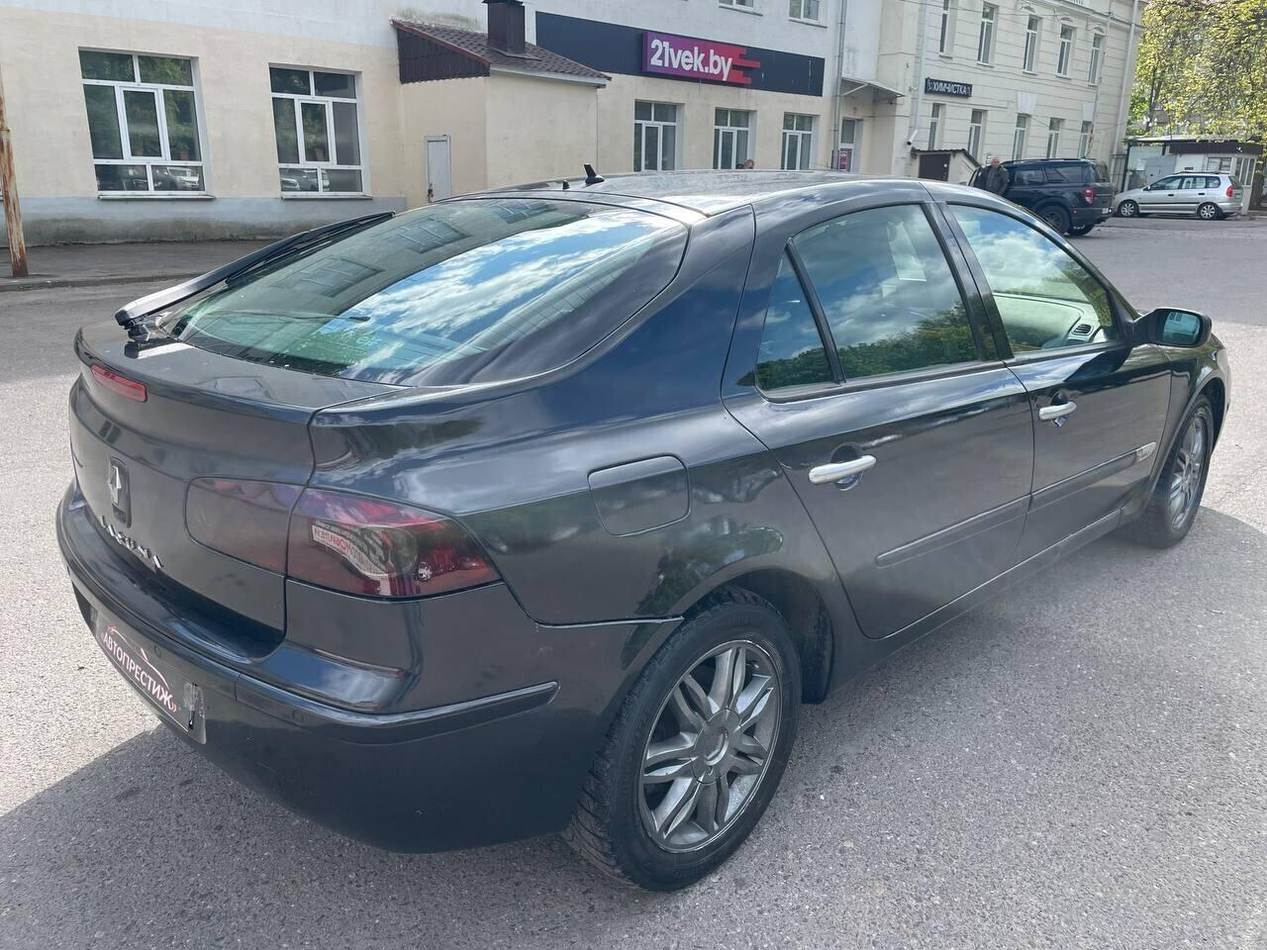Laguna_2005-2007: (48, 169, 1241, 886)
